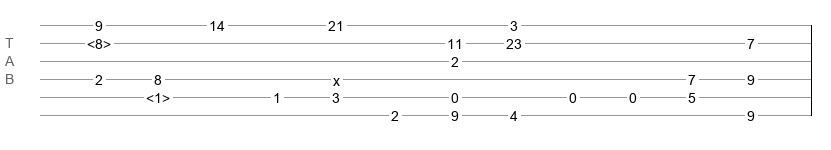0: (451, 90, 459, 100), (569, 90, 577, 100), (629, 90, 637, 100)
1: (273, 90, 281, 100)
11: (447, 36, 463, 46)
14: (209, 18, 225, 28)
2: (95, 72, 103, 82), (391, 108, 399, 118), (451, 54, 459, 64)
21: (328, 18, 344, 28)
23: (506, 36, 522, 46)
3: (332, 90, 340, 100), (510, 18, 518, 28)
4: (510, 108, 518, 118)
5: (688, 90, 696, 100)
7: (688, 72, 696, 82), (747, 36, 755, 46)
8: (154, 72, 162, 82)
9: (95, 18, 103, 28), (451, 108, 459, 118), (747, 108, 755, 118), (747, 72, 755, 82)
harmonic: (87, 36, 111, 46), (146, 90, 170, 100)
x: (333, 73, 340, 81)
